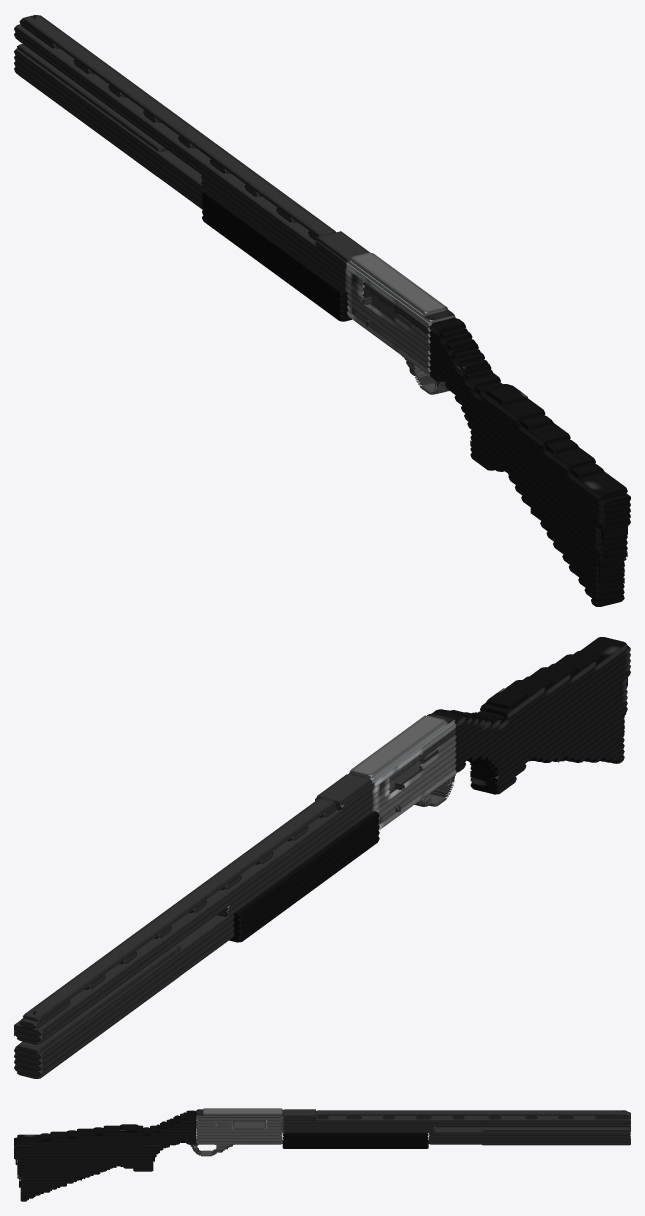
The picture shows the model from 3 angles, top to bottom: view 1: azimuth 30°, elevation 25°; view 2: azimuth 150°, elevation 25°; view 3: azimuth 270°, elevation 25°; orthographic projection. The views are drawn at different scales.
Visible parts, largest first — view 1: cube_35, cube_30, cube_31, cube_28, cube_77, cube_22, cube_128, cube_115, cube_110, cube_29, cube_111, cube_21 (+15 smaller); view 2: cube_35, cube_30, cube_31, cube_28, cube_77, cube_128, cube_22, cube_115, cube_29, cube_25, cube_23, cube_113 (+17 smaller); view 3: cube_30, cube_35, cube_31, cube_28, cube_115, cube_25, cube_22, cube_113, cube_23, cube_29, cube_128, cube_110 (+35 smaller).
Boxes of the visible parts, x1,y1,x2,y2 form: cube_35: (22, 15, 335, 236); cube_30: (14, 24, 364, 286); cube_31: (14, 32, 365, 291); cube_28: (14, 48, 205, 192); cube_77: (349, 252, 447, 314); cube_22: (445, 382, 627, 499); cube_128: (202, 190, 348, 298); cube_115: (201, 181, 430, 351); cube_110: (429, 365, 595, 470); cube_29: (17, 44, 167, 151); cube_111: (429, 360, 570, 446); cube_21: (454, 395, 630, 508); cube_35: (23, 798, 336, 1021); cube_30: (14, 777, 389, 1036); cube_31: (14, 782, 389, 1042); cube_28: (14, 911, 234, 1059); cube_77: (350, 715, 447, 777); cube_128: (228, 811, 379, 919); cube_22: (467, 637, 627, 761); cube_115: (217, 746, 456, 916); cube_29: (17, 945, 181, 1053); cube_25: (14, 932, 234, 1076); cube_23: (14, 920, 234, 1065); cube_113: (14, 926, 234, 1070); cube_30: (266, 1115, 630, 1123); cube_35: (316, 1110, 627, 1115); cube_31: (266, 1117, 630, 1126); cube_28: (429, 1127, 630, 1135); cube_115: (196, 1122, 435, 1132); cube_25: (428, 1135, 630, 1144); cube_22: (17, 1134, 179, 1144); cube_113: (429, 1132, 630, 1141); cube_23: (429, 1135, 630, 1138); cube_29: (481, 1127, 630, 1131); cube_128: (283, 1132, 428, 1136); cube_110: (50, 1131, 196, 1141).
Bounding box in the file's own units: 4.53 × 18.22 × 116.
Materials: 1 (1 with a texture image).
